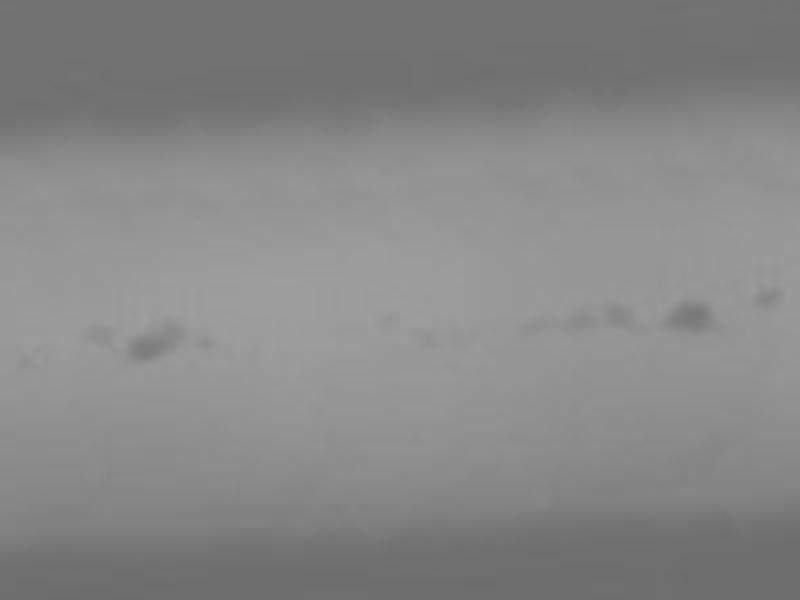defect: (126, 320, 181, 361), (665, 299, 723, 337), (747, 282, 792, 308), (516, 312, 560, 335), (567, 304, 597, 336), (605, 302, 638, 331), (371, 301, 403, 328), (415, 330, 446, 357), (88, 320, 114, 351), (15, 348, 43, 375), (194, 332, 216, 357)
